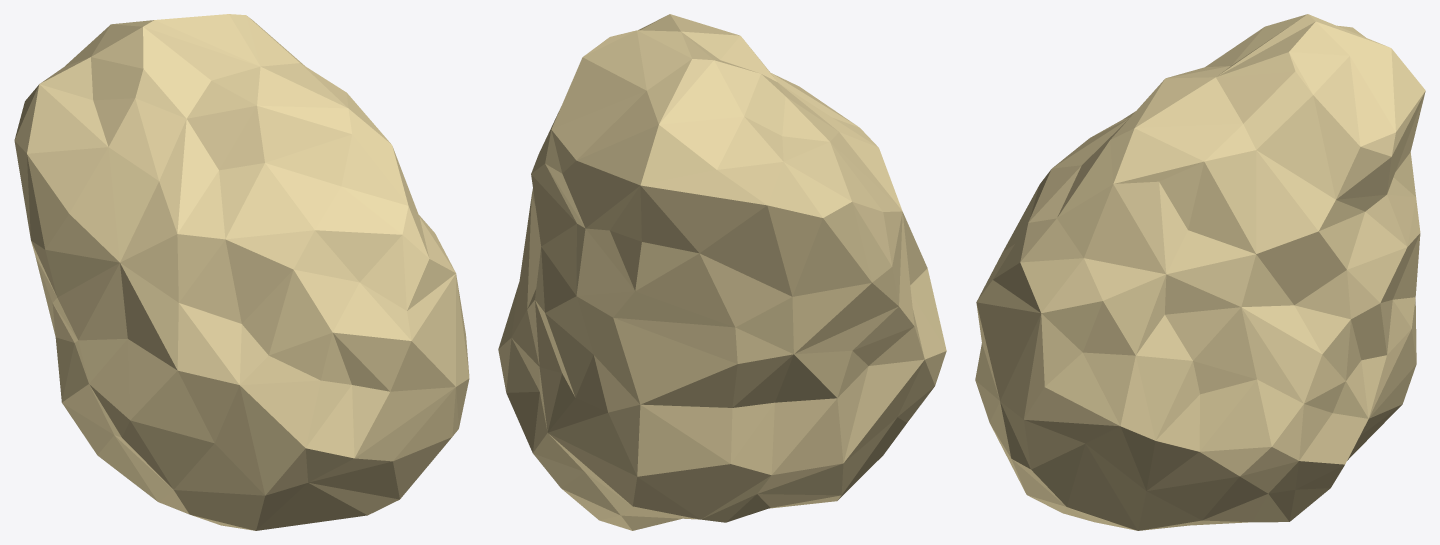
The model's file is Asteroid (89).fbx.
The picture shows the model from 3 angles, left to right: view 1: azimuth 30°, elevation 25°; view 2: azimuth 150°, elevation 25°; view 3: azimuth 270°, elevation 25°; orthographic projection. The views are drawn at different scales.
Visible parts, largest first — view 1: Asteroid133; view 2: Asteroid133; view 3: Asteroid133.
Boxes of the visible parts, box(x1,y1,x2,y2) form: Asteroid133: box(14, 14, 469, 530); Asteroid133: box(498, 14, 946, 530); Asteroid133: box(975, 14, 1425, 530).
Size of the model in its own units: 249 by 297 by 265.
